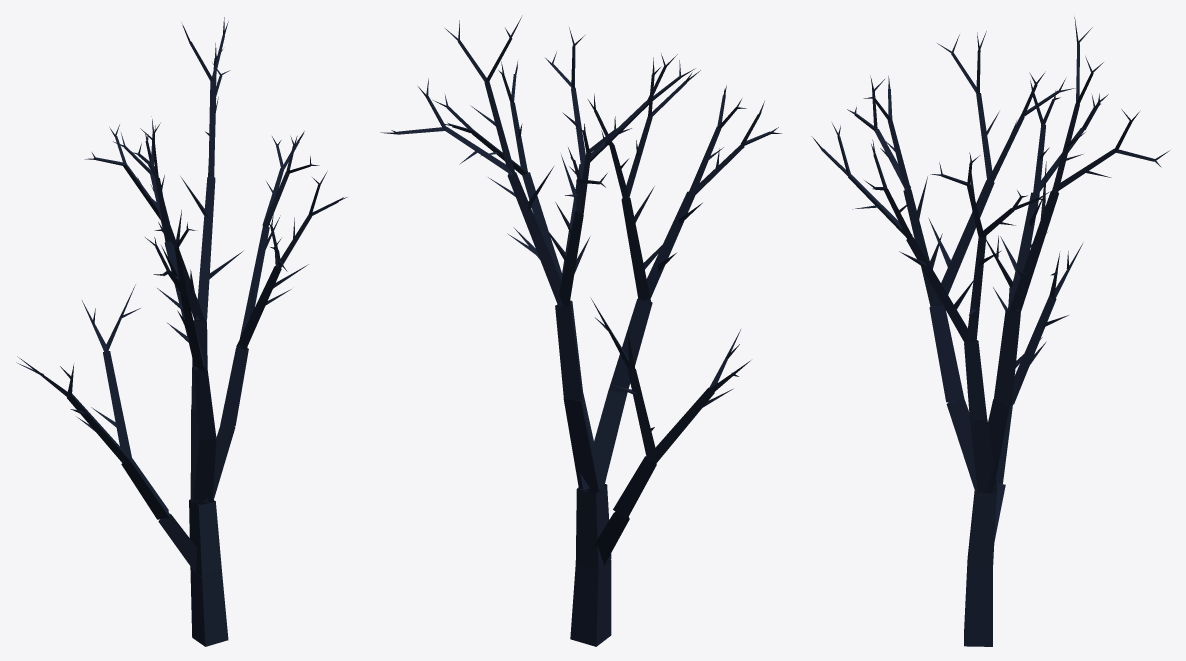
The model's file is tree_bare_b.glb.
3 views of the same model, side by side, from view 1: azimuth 30°, elevation 25°; view 2: azimuth 150°, elevation 25°; view 3: azimuth 270°, elevation 25° (orthographic). The views are drawn at different scales.
Visible parts, largest first — view 1: Tree_Bare_B; view 2: Tree_Bare_B; view 3: Tree_Bare_B.
Part boxes in pixels (x1=…): Tree_Bare_B: x1=16, y1=17, x2=347, y2=646; Tree_Bare_B: x1=380, y1=15, x2=781, y2=646; Tree_Bare_B: x1=811, y1=17, x2=1169, y2=646.
Size of the model in its own units: 4.05 by 7.83 by 4.02.
